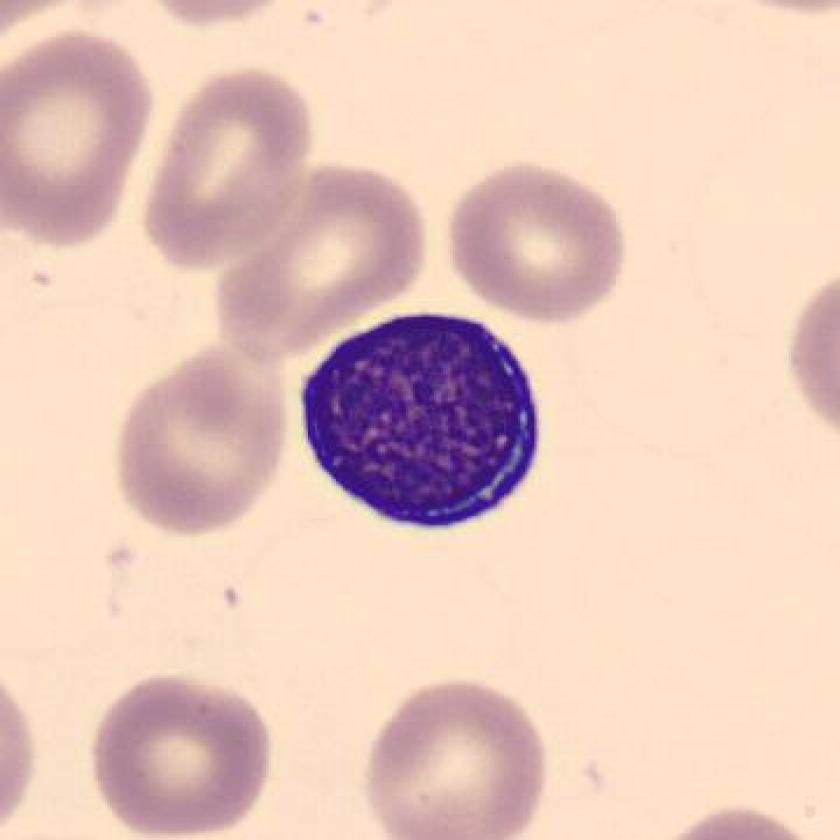lymphocyte: (290, 295, 559, 554)
